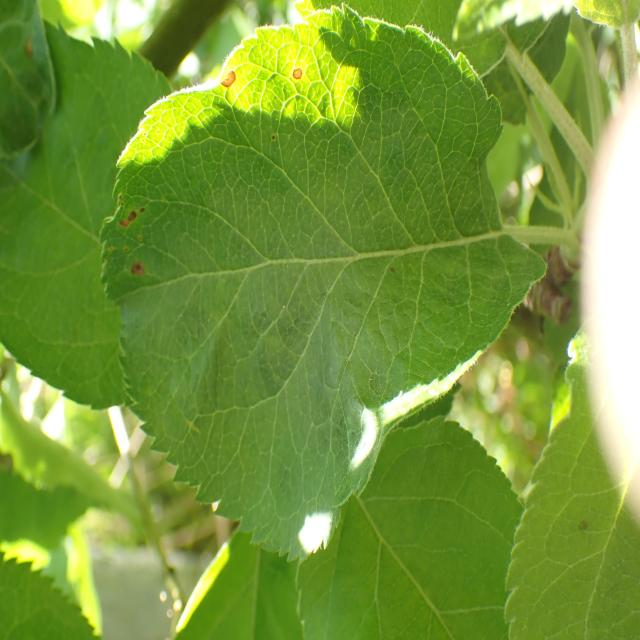Black Rot: (96, 188, 153, 236), (125, 252, 164, 309), (218, 52, 246, 101), (283, 49, 309, 95)
